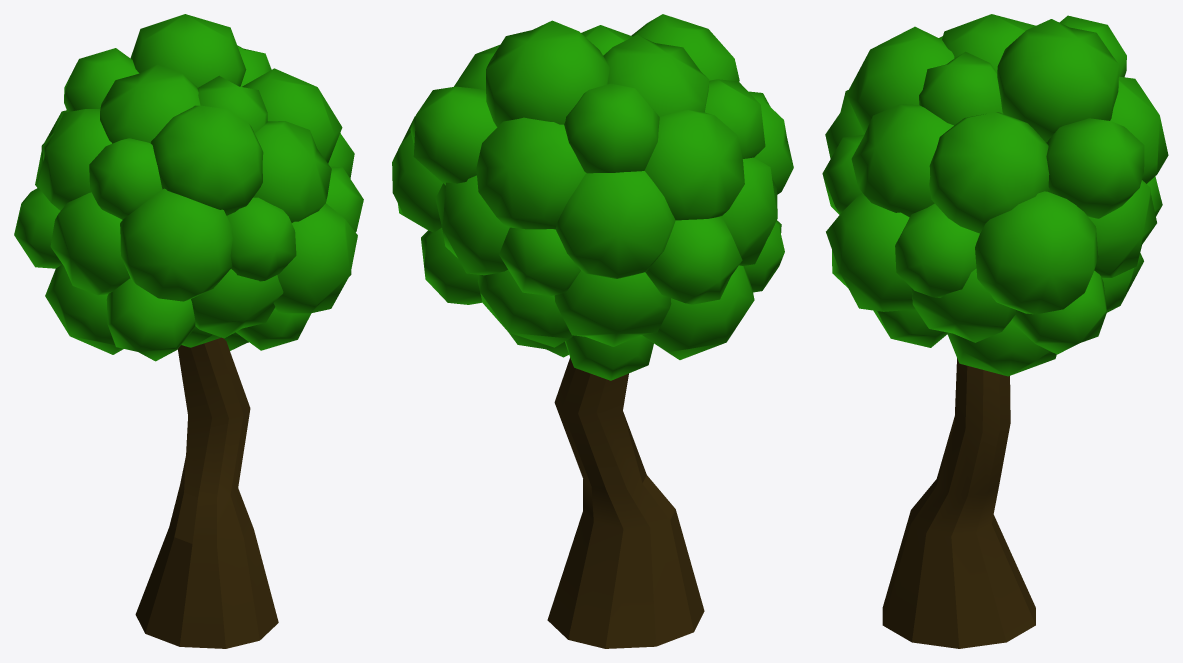
File: Tree1.fbx
The picture shows the model from 3 angles, left to right: view 1: azimuth 30°, elevation 25°; view 2: azimuth 150°, elevation 25°; view 3: azimuth 270°, elevation 25°; orthographic projection. The views are drawn at different scales.
Parts seen in each view (by area): view 1: Tree; view 2: Tree; view 3: Tree.
Part boxes in pixels (x1,y1,x2,y2): Tree: (14, 14, 363, 648); Tree: (392, 14, 793, 648); Tree: (822, 14, 1168, 648).
Size of the model in its own units: 4.45 by 7.63 by 4.
